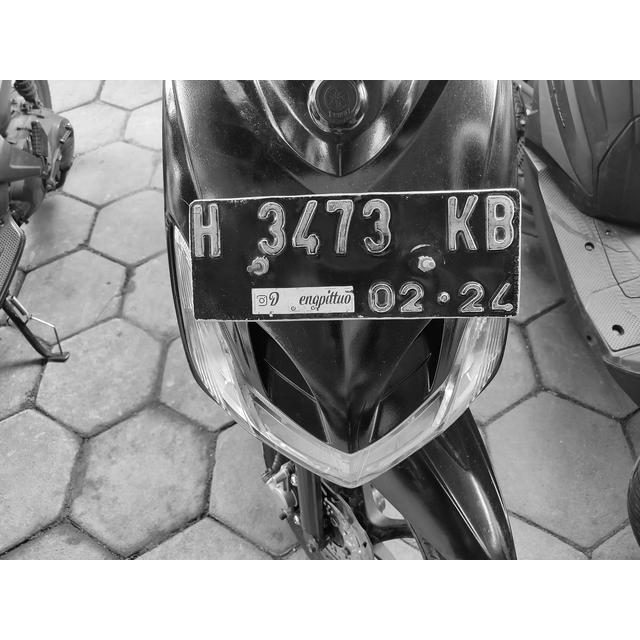license: (189, 188, 517, 317)
